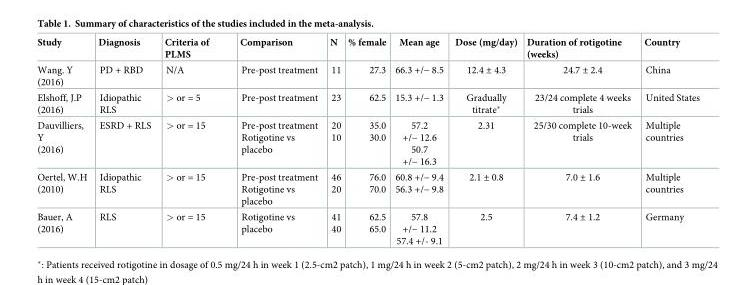table: (36, 36, 698, 245)
table column: (521, 36, 637, 245), (223, 36, 323, 245), (448, 36, 521, 245), (157, 36, 223, 245), (92, 36, 157, 245), (637, 36, 698, 245), (389, 36, 448, 245), (36, 36, 92, 245), (343, 36, 389, 245), (323, 36, 343, 245)
table column header: (36, 36, 698, 60)
table row: (36, 117, 698, 168), (36, 168, 698, 208), (36, 208, 698, 245), (36, 88, 698, 117), (36, 60, 698, 88), (36, 36, 698, 60)
